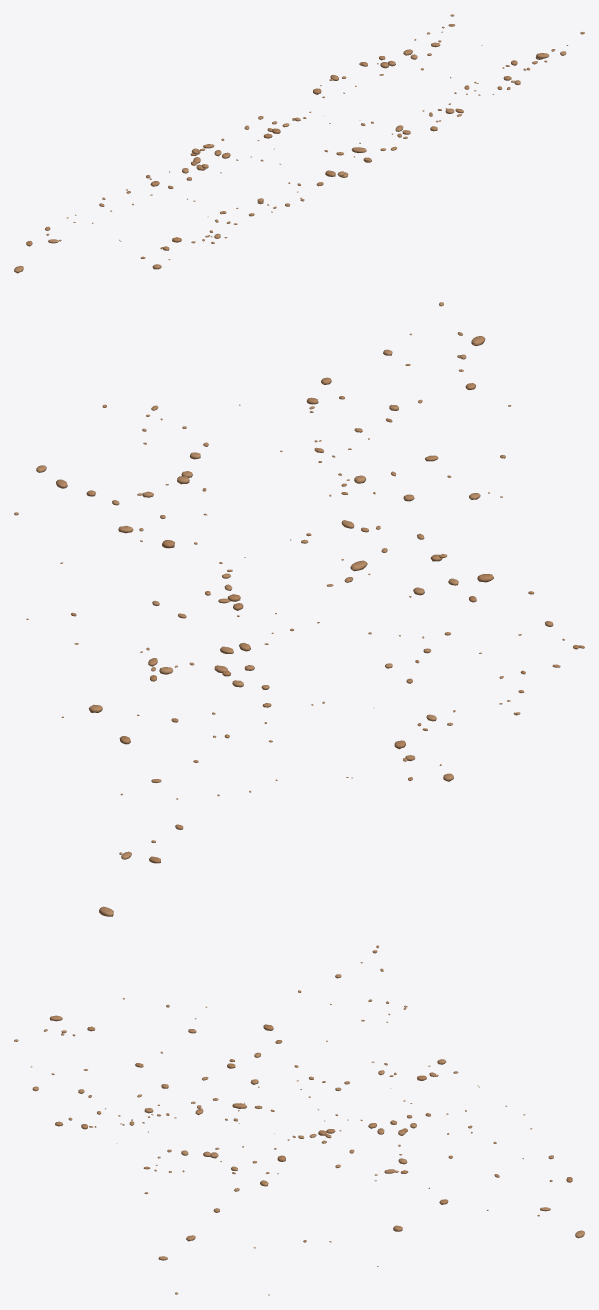
The model's file is terrain-101.glb.
3 views of the same model, one above another, from view 1: azimuth 90°, elevation 25°; view 2: azimuth 150°, elevation 25°; view 3: azimuth 270°, elevation 25° (orthographic). The views are drawn at different scales.
Visible parts, largest first — view 1: terrain-101; view 2: terrain-101; view 3: terrain-101.
Boxes of the visible parts, bbox=[...] form: terrain-101: bbox=[14, 14, 584, 273]; terrain-101: bbox=[14, 302, 584, 916]; terrain-101: bbox=[14, 945, 584, 1295].
Size of the model in its own units: 70.64 by 29.1 by 69.04.
